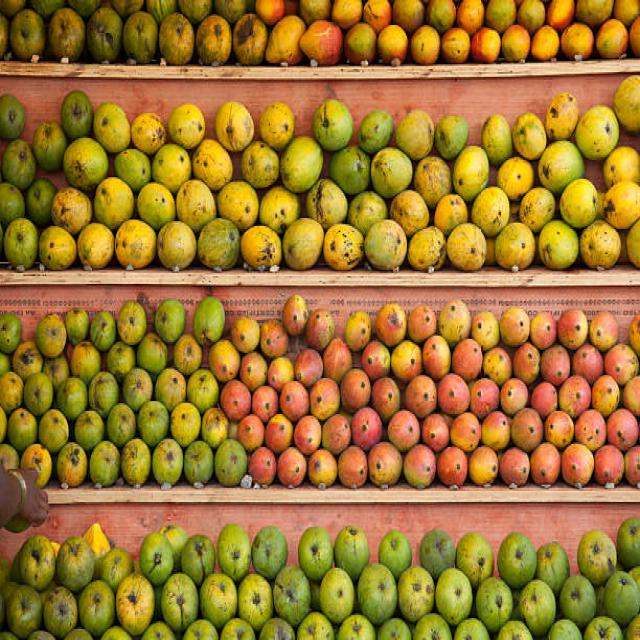mango: (62, 137, 108, 190), (539, 141, 585, 194), (280, 137, 324, 192), (575, 105, 619, 160), (116, 574, 155, 636), (272, 564, 310, 625), (358, 564, 396, 625), (18, 534, 56, 592), (306, 178, 348, 230), (56, 536, 95, 592), (519, 579, 556, 638), (161, 574, 199, 631), (456, 532, 494, 589), (435, 568, 472, 626), (198, 218, 240, 269), (282, 218, 324, 269), (364, 219, 406, 270), (578, 531, 616, 587), (200, 574, 238, 629), (498, 534, 536, 589), (94, 178, 134, 230), (312, 99, 352, 151), (79, 581, 115, 638), (371, 148, 412, 198), (580, 219, 621, 269), (192, 139, 231, 191), (240, 225, 282, 273), (399, 566, 435, 622), (414, 156, 452, 209), (115, 219, 156, 268), (266, 15, 306, 65), (176, 182, 216, 232), (539, 219, 579, 269), (300, 21, 344, 66), (604, 572, 640, 627), (48, 8, 85, 61), (219, 182, 259, 231), (330, 146, 370, 195), (454, 146, 489, 202), (476, 578, 512, 632), (51, 188, 92, 235), (259, 186, 300, 233), (239, 574, 272, 632), (215, 103, 254, 152), (471, 188, 510, 237), (122, 11, 158, 64), (6, 585, 42, 638), (158, 221, 196, 271), (560, 178, 598, 228), (139, 532, 174, 586), (218, 525, 251, 582), (324, 223, 364, 270), (10, 9, 46, 61), (151, 144, 190, 192), (395, 111, 434, 159), (320, 568, 354, 623), (334, 527, 369, 580), (535, 542, 570, 595), (495, 223, 535, 269), (88, 8, 122, 62), (42, 587, 78, 638), (252, 527, 288, 578), (560, 576, 596, 627), (390, 189, 429, 236), (448, 223, 486, 271), (159, 13, 194, 65), (181, 534, 216, 586), (299, 527, 332, 582), (94, 103, 130, 153), (136, 184, 175, 230), (241, 141, 279, 188), (420, 529, 455, 580), (348, 191, 388, 235), (196, 15, 231, 65), (234, 15, 268, 66), (168, 103, 205, 149), (1, 141, 36, 189), (605, 182, 640, 230), (4, 219, 38, 268), (545, 92, 579, 141), (39, 225, 76, 270), (78, 223, 114, 269), (34, 120, 66, 171), (512, 112, 546, 160), (409, 227, 446, 271), (379, 531, 412, 580), (481, 114, 512, 166), (260, 103, 295, 149), (60, 90, 92, 140), (152, 439, 184, 489), (114, 148, 151, 191), (519, 188, 555, 232), (368, 442, 402, 488), (194, 296, 225, 346), (498, 158, 534, 201), (439, 300, 471, 348), (358, 111, 394, 153), (604, 146, 640, 188), (604, 343, 639, 386), (100, 548, 134, 592), (138, 399, 169, 447), (614, 75, 640, 132), (89, 441, 121, 487), (136, 332, 168, 378), (131, 112, 165, 155), (215, 441, 246, 488), (561, 444, 594, 488), (121, 439, 151, 487), (89, 371, 120, 417), (405, 375, 438, 418), (511, 409, 544, 452), (26, 178, 56, 225), (56, 377, 88, 421), (404, 444, 436, 488), (159, 525, 188, 573), (344, 22, 376, 65), (20, 444, 52, 487), (188, 369, 219, 413), (170, 403, 201, 447), (70, 341, 101, 385), (340, 369, 371, 413), (351, 407, 382, 451), (434, 195, 468, 235), (36, 313, 66, 358), (39, 409, 69, 454), (58, 442, 88, 487), (438, 373, 470, 415), (559, 377, 591, 419), (371, 377, 400, 423), (209, 339, 240, 382), (391, 339, 422, 382), (451, 339, 482, 382), (595, 19, 629, 58), (106, 403, 136, 447), (8, 409, 38, 453), (594, 444, 624, 488), (12, 341, 44, 382), (608, 409, 639, 451), (184, 441, 214, 484), (155, 300, 185, 343), (376, 304, 406, 347), (389, 411, 420, 452), (24, 373, 54, 415), (122, 368, 152, 410), (530, 444, 560, 486), (422, 336, 450, 381), (306, 309, 335, 352), (575, 411, 606, 451), (324, 339, 352, 383), (410, 24, 440, 65), (106, 341, 136, 382), (438, 446, 468, 487), (310, 379, 340, 420), (450, 412, 480, 453), (558, 309, 588, 350), (561, 22, 594, 59), (339, 446, 368, 488), (591, 375, 620, 417), (499, 448, 530, 487), (118, 302, 146, 345), (378, 24, 408, 64), (75, 411, 105, 451), (221, 381, 251, 421), (470, 379, 500, 419), (500, 306, 530, 346), (572, 343, 602, 383), (589, 311, 619, 351), (322, 414, 351, 455), (201, 407, 229, 449), (282, 294, 309, 337), (265, 414, 294, 454), (469, 446, 498, 486), (280, 382, 309, 422), (361, 341, 390, 381), (481, 411, 510, 451), (541, 345, 570, 385), (392, 0, 425, 35), (174, 334, 202, 375), (294, 349, 324, 387), (482, 347, 512, 385), (544, 411, 574, 449), (618, 518, 640, 569), (278, 448, 306, 488), (501, 24, 530, 62), (531, 24, 560, 62), (309, 450, 338, 488), (231, 315, 260, 353), (0, 182, 25, 226), (240, 352, 268, 391), (471, 311, 499, 350), (471, 28, 501, 64), (456, 0, 485, 37), (90, 311, 116, 352), (345, 311, 371, 352), (421, 414, 449, 452), (249, 446, 276, 485), (294, 416, 321, 455), (412, 613, 451, 640), (426, 0, 456, 35), (500, 379, 529, 415), (298, 611, 334, 640), (514, 343, 540, 383), (251, 386, 279, 423), (260, 321, 288, 358), (238, 414, 265, 452), (485, 0, 516, 33), (441, 28, 470, 63), (530, 311, 556, 350), (0, 371, 24, 413), (408, 306, 436, 342), (531, 382, 558, 419), (338, 613, 375, 640), (577, 0, 613, 27), (518, 0, 545, 35), (268, 356, 294, 391), (364, 0, 391, 33), (584, 617, 622, 640), (331, 0, 361, 29), (65, 308, 89, 344), (0, 313, 21, 353), (546, 0, 573, 31), (300, 0, 331, 24), (255, 0, 284, 25), (220, 619, 254, 640), (548, 619, 582, 640), (378, 619, 411, 640), (496, 621, 532, 640), (184, 621, 218, 640)
